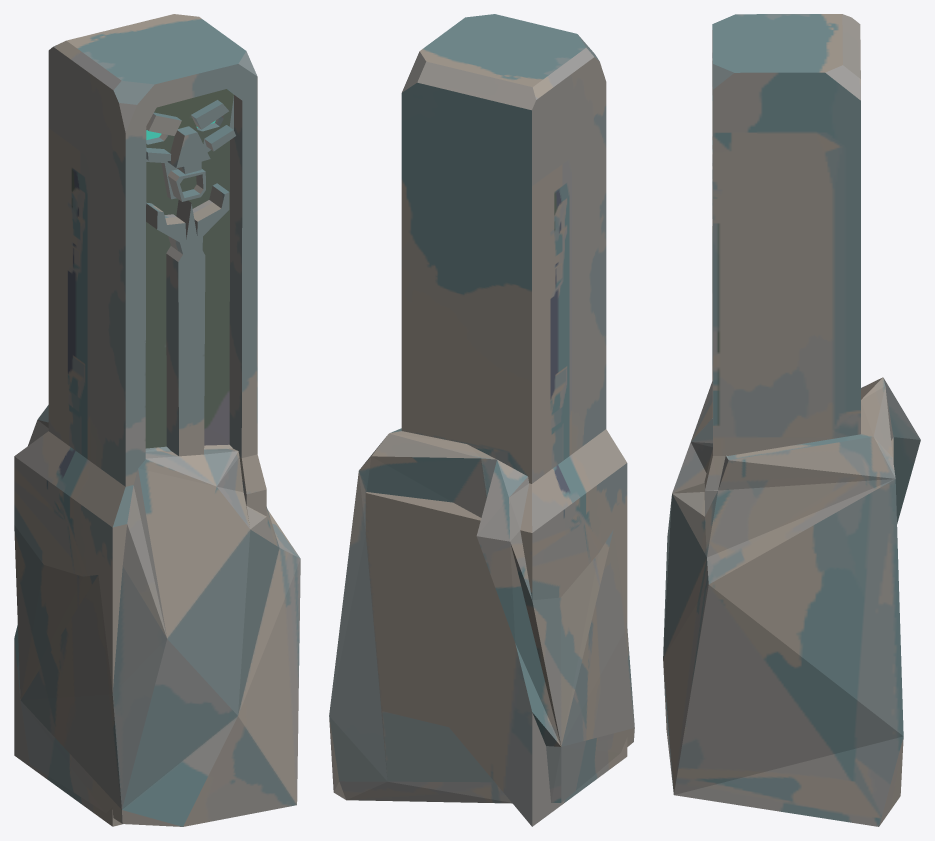
The model's file is s_stone ghost01_02.fbx.
3 renders of one model, left to right at view 1: azimuth 30°, elevation 25°; view 2: azimuth 150°, elevation 25°; view 3: azimuth 270°, elevation 25°, orthographic. The views are drawn at different scales.
Visible parts, largest first — view 1: s_stone ghost01_02; view 2: s_stone ghost01_02; view 3: s_stone ghost01_02.
Boxes of the visible parts, box(x1,y1,x2,y2) form: s_stone ghost01_02: box(14, 14, 300, 826); s_stone ghost01_02: box(329, 14, 634, 826); s_stone ghost01_02: box(663, 14, 920, 826).
Size of the model in its own units: 170 by 555 by 177.
Materials: 1 (1 with a texture image).
